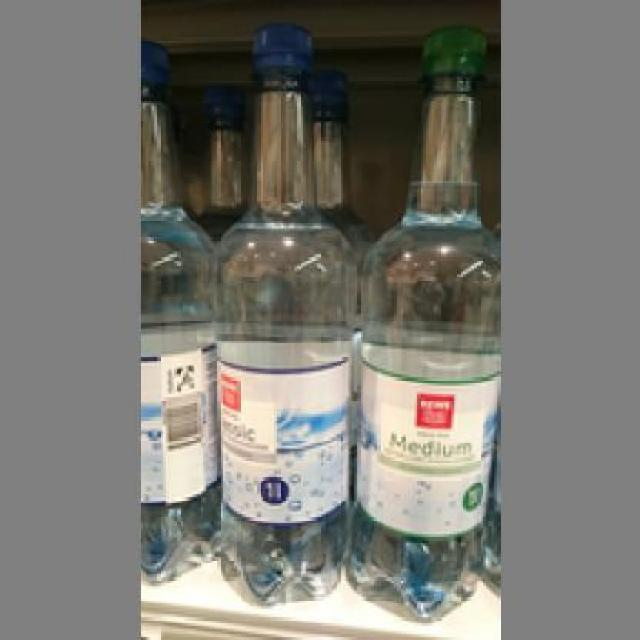Water: (354, 22, 497, 615), (212, 17, 354, 600), (140, 33, 214, 590)
